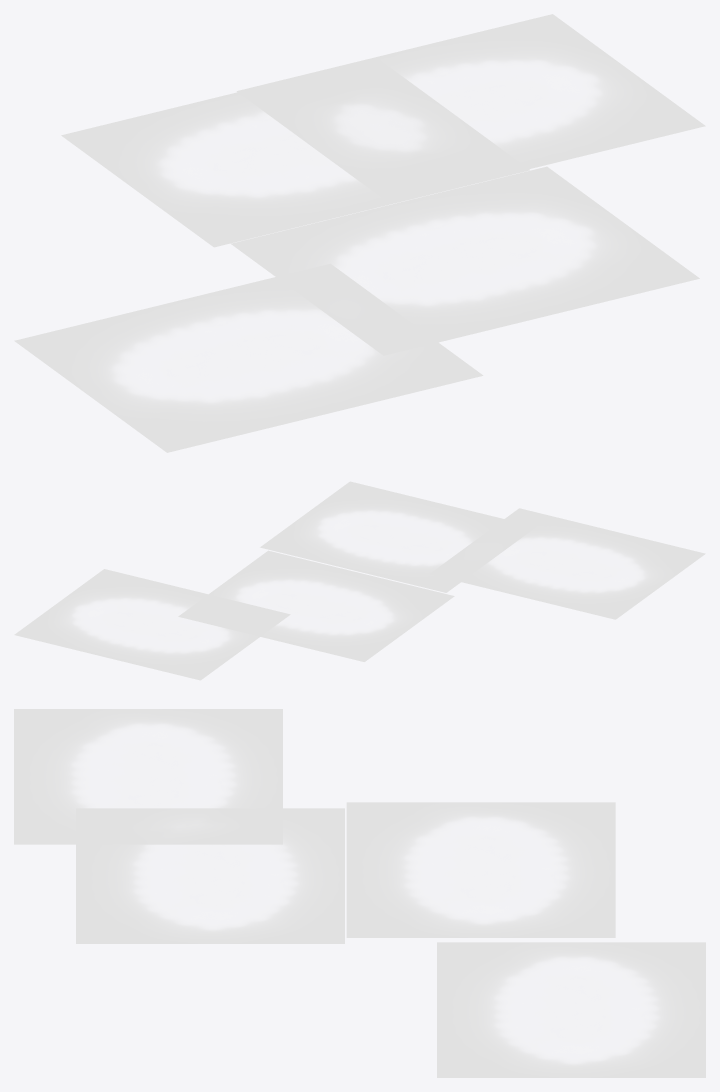
The model's file is Plato_01.glb.
3 renders of one model, top to bottom at view 1: azimuth 30°, elevation 25°; view 2: azimuth 150°, elevation 25°; view 3: azimuth 270°, elevation 25°, orthographic. The views are drawn at different scales.
Visible parts, largest first — view 1: Plane.002, Plane.004, Plane.003, Plane.001; view 2: Plane.002, Plane.004, Plane.001, Plane.003; view 3: Plane.002, Plane.004, Plane.001, Plane.003.
Boxes of the visible parts, left/top/right/bottom form: Plane.002: left=61, top=58, right=529, bottom=247; Plane.004: left=231, top=166, right=699, bottom=355; Plane.003: left=14, top=264, right=483, bottom=452; Plane.001: left=236, top=14, right=705, bottom=184; Plane.002: left=178, top=550, right=454, bottom=661; Plane.004: left=260, top=481, right=535, bottom=592; Plane.001: left=14, top=569, right=290, bottom=680; Plane.003: left=439, top=508, right=705, bottom=619; Plane.002: left=346, top=802, right=615, bottom=937; Plane.004: left=76, top=808, right=344, bottom=943; Plane.001: left=437, top=942, right=705, bottom=1077; Plane.003: left=14, top=709, right=282, bottom=844.
Bounding box in the file's own units: 0.9154 × 0.0555 × 0.8012.
Materials: 4 (4 with a texture image).
